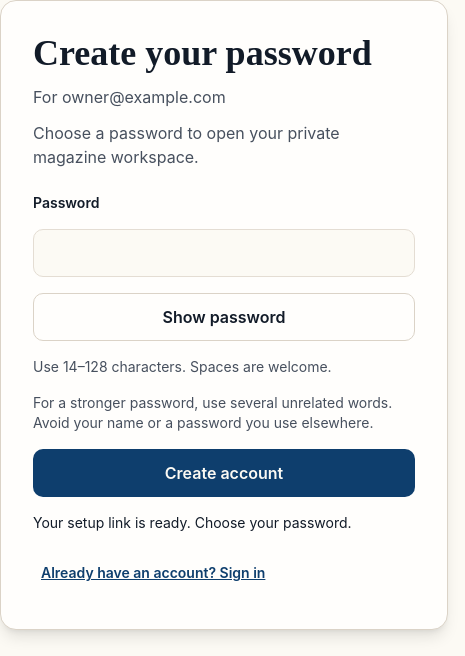
owner setup form › announces a safe, actionable error for status 404
Type "four unrelated words here" into the password field labelled "Password".
click(224, 253); type("four unrelated words here")  # box 33,229 -> 415,277
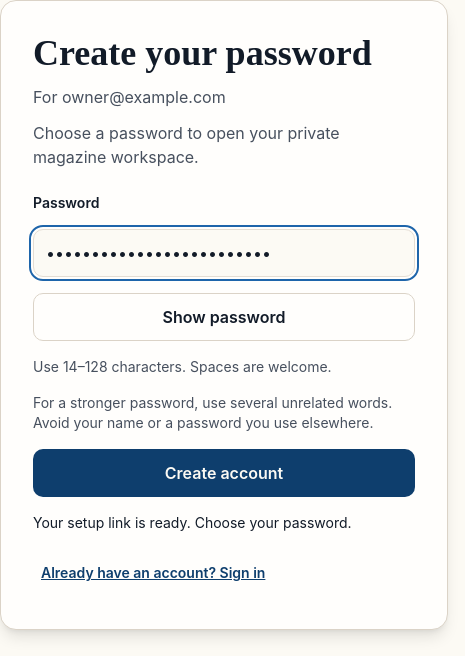
Click the button "Create account".
click(224, 473)  # box 33,449 -> 415,497
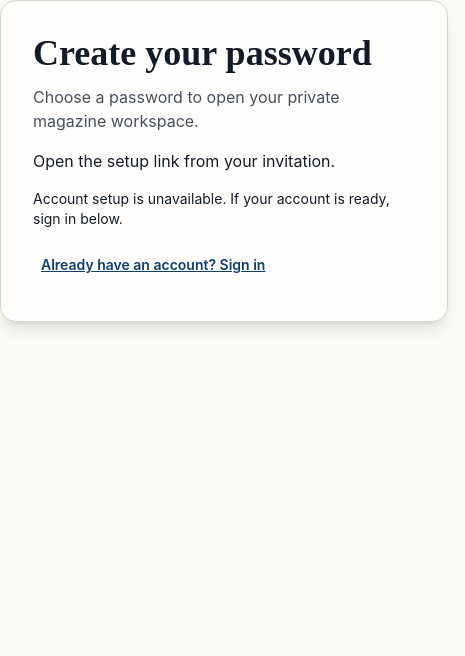
Expected: the message does not show "Creating your account", 33,189 -> 415,229
Now the button "Create account" is gone
